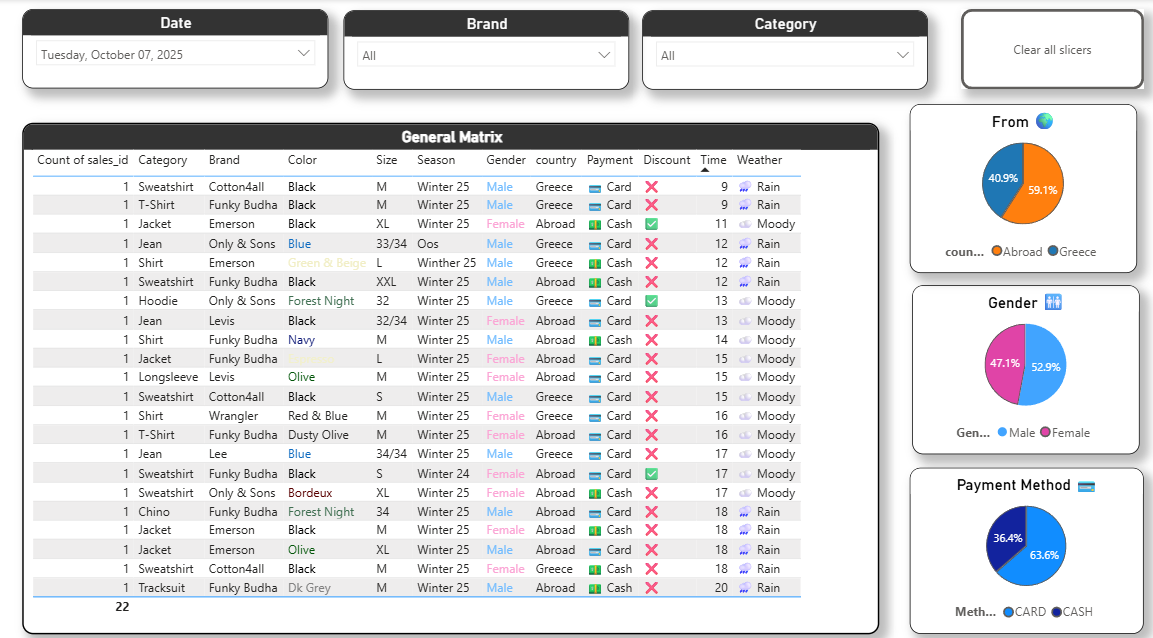

This screenshot's page, from the dashboard's own definition file:
{"tool":"powerbi","page":{"name":"Previus Day 2","canvas":[1280,720],"ordinal":2},"visuals":[{"type":"slicer","title":"Date","fields":{"Values":["retail v_kpi_daily.day"]},"box":[28.5,11.4,336.4,86.9],"z":0},{"type":"tableEx","title":"General Matrix","fields":{"Values":["CountNonNull(retail v_sales_fct.sales_id)","retail v_sales_fct.category","retail v_sales_fct.brand","retail v_sales_fct.color","retail v_sales_fct.size","retail v_sales_fct.season","retail v_sales_fct.gender","retail v_sales_fct.country","retail v_sales_fct.Payment_Icon","retail v_sales_fct.Discount_Icon","retail v_sales_fct.HourOrder","retail v_sales_fct.Weather_Icon"]},"box":[28.5,135.4,940.8,561.6],"z":1000},{"type":"pieChart","title":"Gender 🚻","fields":{"Y":["CountNonNull(retail v_customer.gender)"],"Category":["retail v_customer.gender"]},"box":[1006.3,313.6,249.4,185.3],"z":2000},{"type":"pieChart","title":"Payment Method 💳","fields":{"Y":["CountNonNull(retail v_sales_fct.payment_method)"],"Category":["retail v_sales_fct.payment_method"]},"box":[1003.5,514.6,256.6,182.4],"z":3000},{"type":"slicer","title":"Category","fields":{"Values":["retail v_sales_fct.category"]},"box":[709.8,12.8,313.6,86.9],"z":4000},{"type":"slicer","title":"Brand","fields":{"Values":["retail v_sales_fct.brand"]},"box":[382,12.8,313.6,86.9],"z":5000},{"type":"actionButton","box":[1059.1,11.4,201,88.4],"z":6000},{"type":"pieChart","title":"From 🌍","fields":{"Category":["retail v_sales_fct.country"],"Y":["CountNonNull(retail v_sales_fct.country)"]},"box":[1003.5,115.5,249.4,185.3],"z":7000}]}

Visuals, with their boxes in screenshot pixels (x1, y1, x2, y2), scaled from the page's 1280x720 canvas onto the 1153x638 screenshot:
"Date" slicer: 26 10 329 87
"General Matrix" tableEx: 26 120 873 618
"Gender 🚻" pieChart: 906 278 1131 442
"Payment Method 💳" pieChart: 904 456 1135 618
"Category" slicer: 639 11 922 88
"Brand" slicer: 344 11 627 88
actionButton: 954 10 1135 88
"From 🌍" pieChart: 904 102 1129 267
